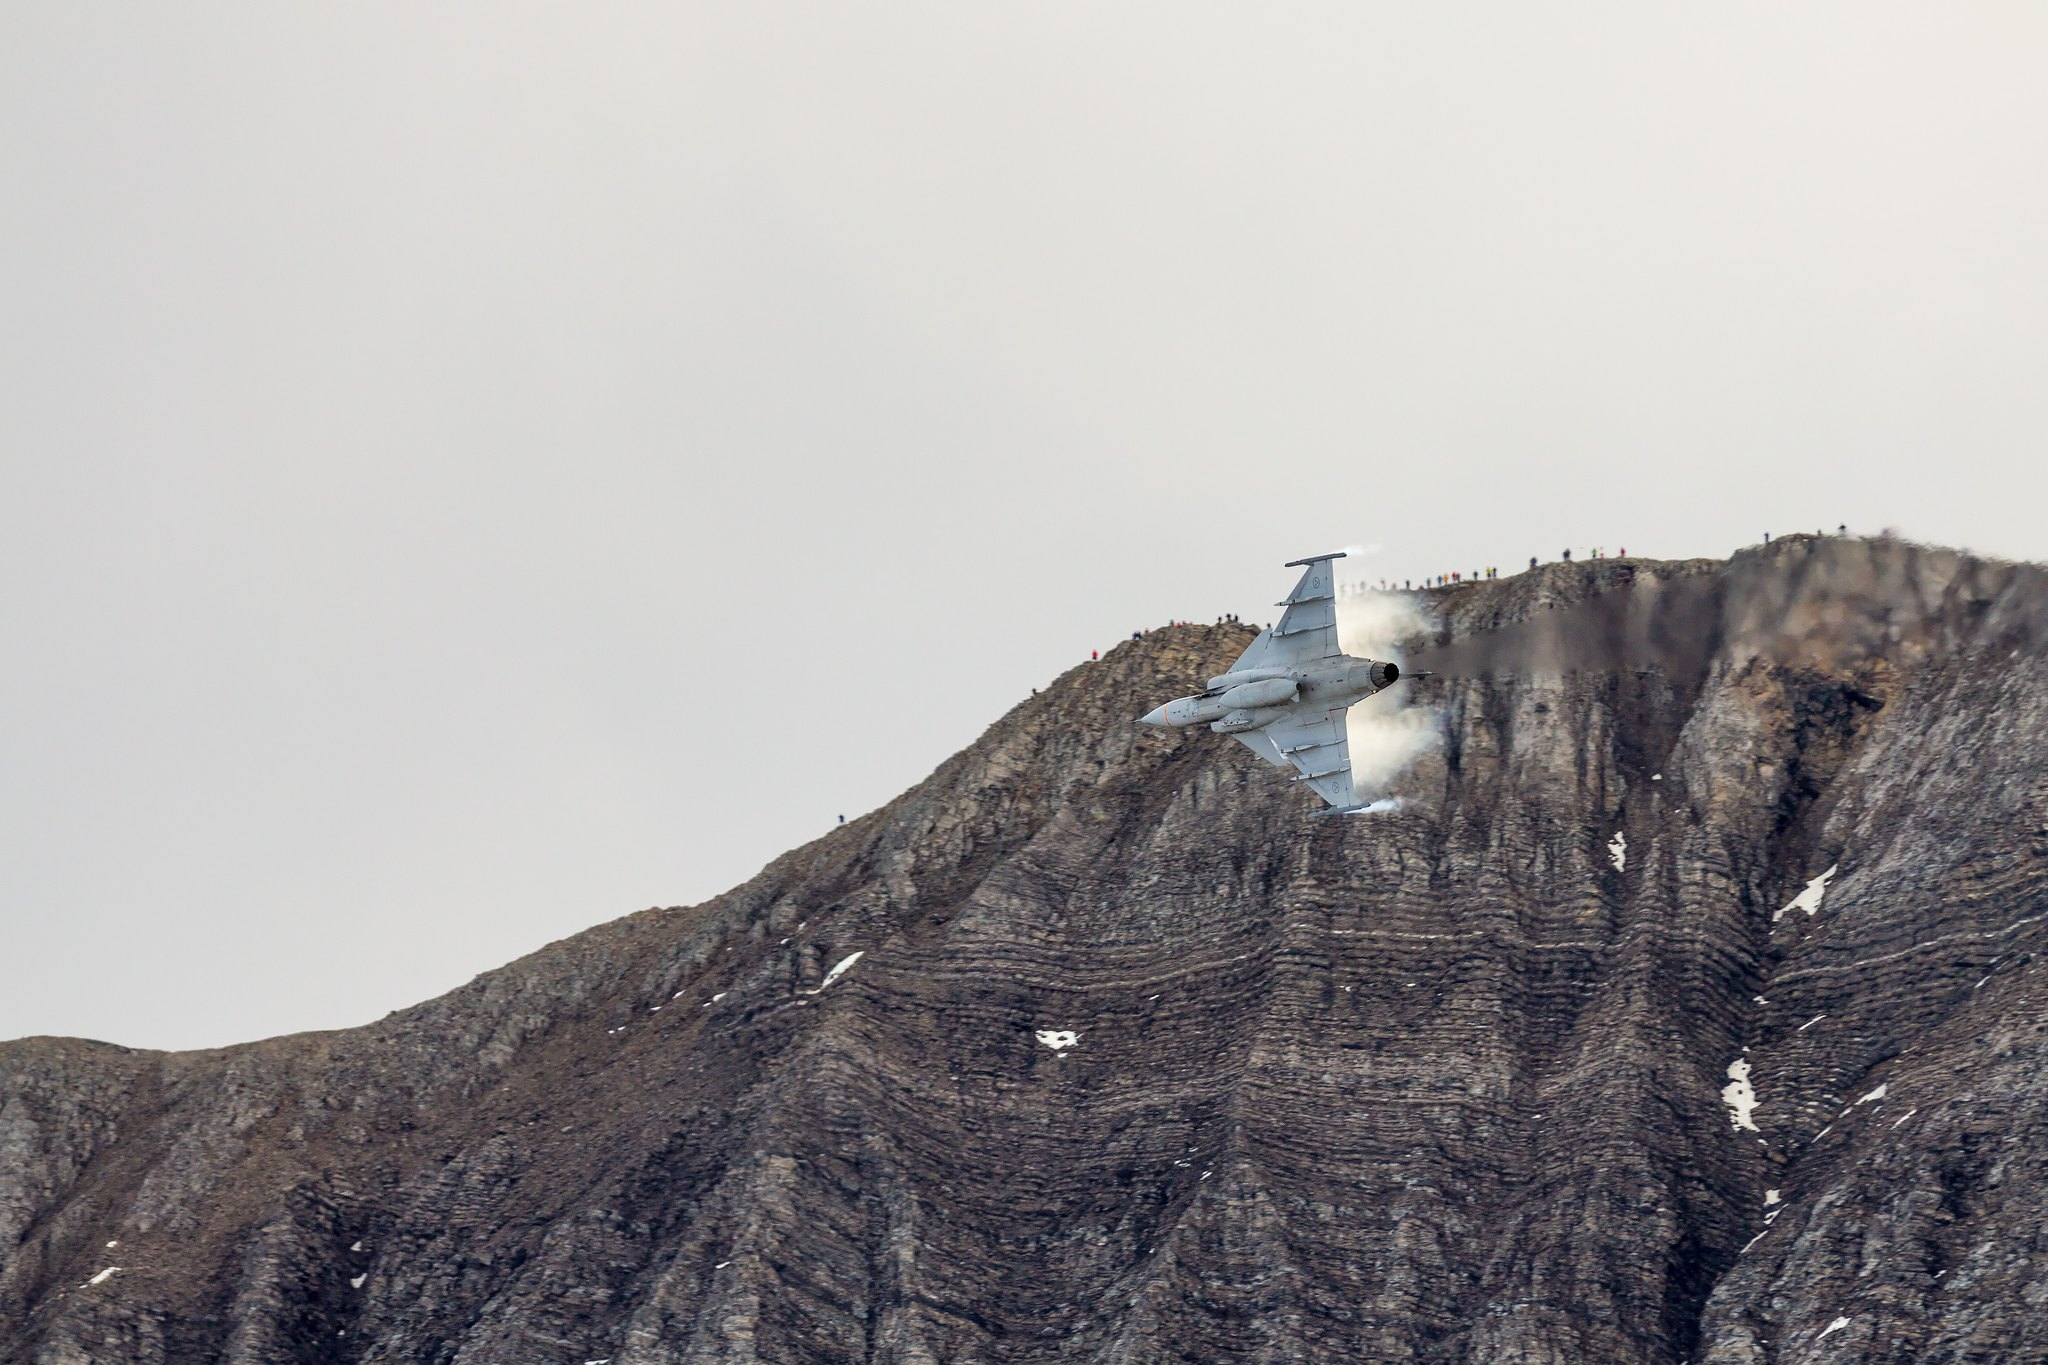JAS39: (1128, 551, 1440, 817)
